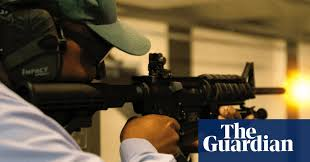Gun: (125, 61, 287, 114)
